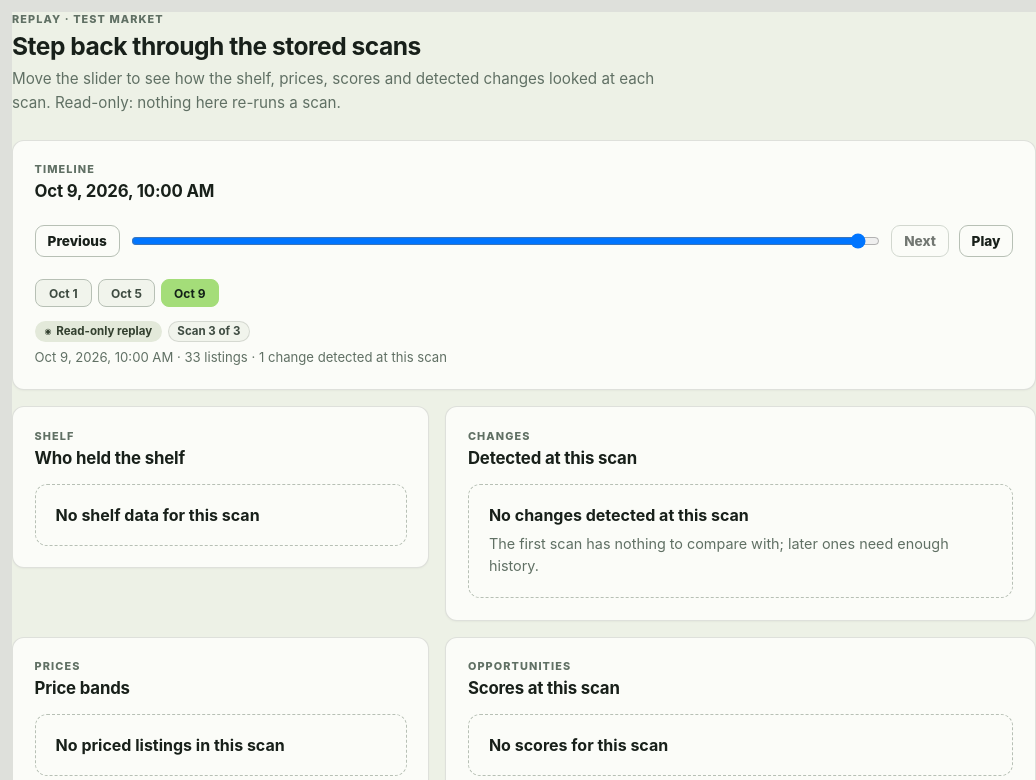
Test: ReplayPage › starts at the latest scan and loads every section for the chosen scan id
expect the text "Scan 3 of 3" is shown: met, box top-left (168, 321), bottom-right (250, 342)
Click the button "Previous" at (77, 241), box top-left (35, 225), bottom-right (120, 257)
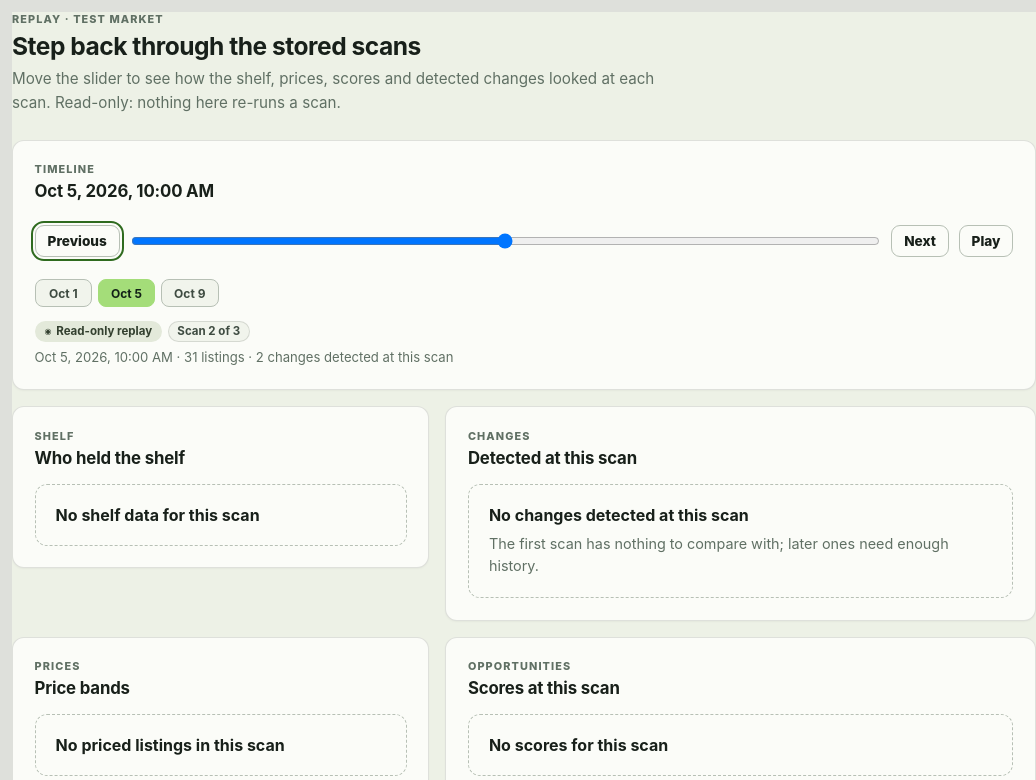
expect the text "Scan 2 of 3" is shown: met, box top-left (168, 321), bottom-right (250, 342)
